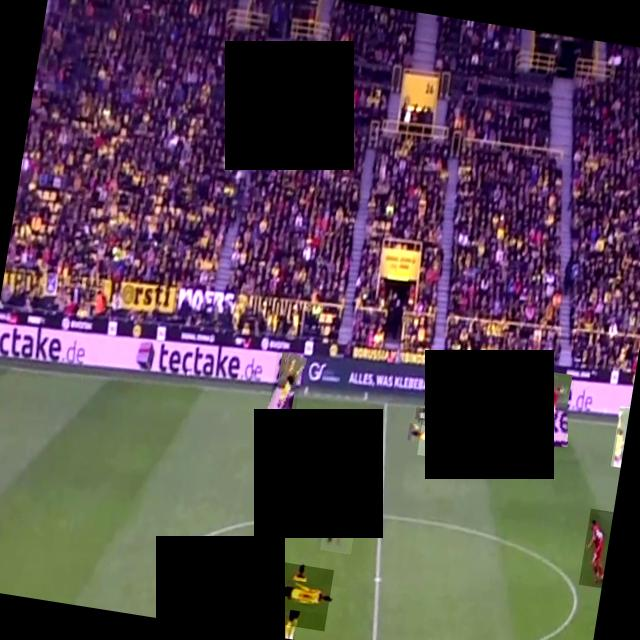ball: (413, 406, 428, 420)
soccer-player: (264, 560, 333, 630), (320, 464, 364, 554), (578, 508, 614, 588), (538, 370, 574, 448), (266, 350, 304, 421), (306, 420, 356, 470), (416, 412, 466, 461), (464, 406, 496, 472), (420, 366, 449, 427), (610, 405, 630, 467)
